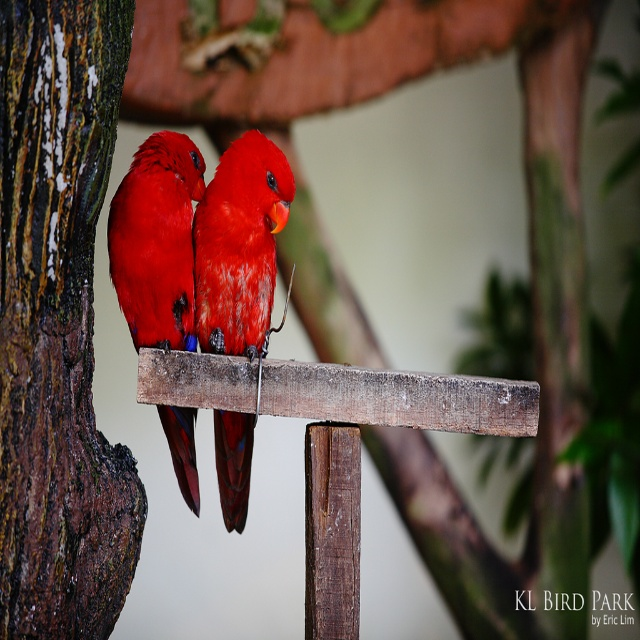Parrot: (192, 129, 296, 535), (107, 130, 207, 519)
